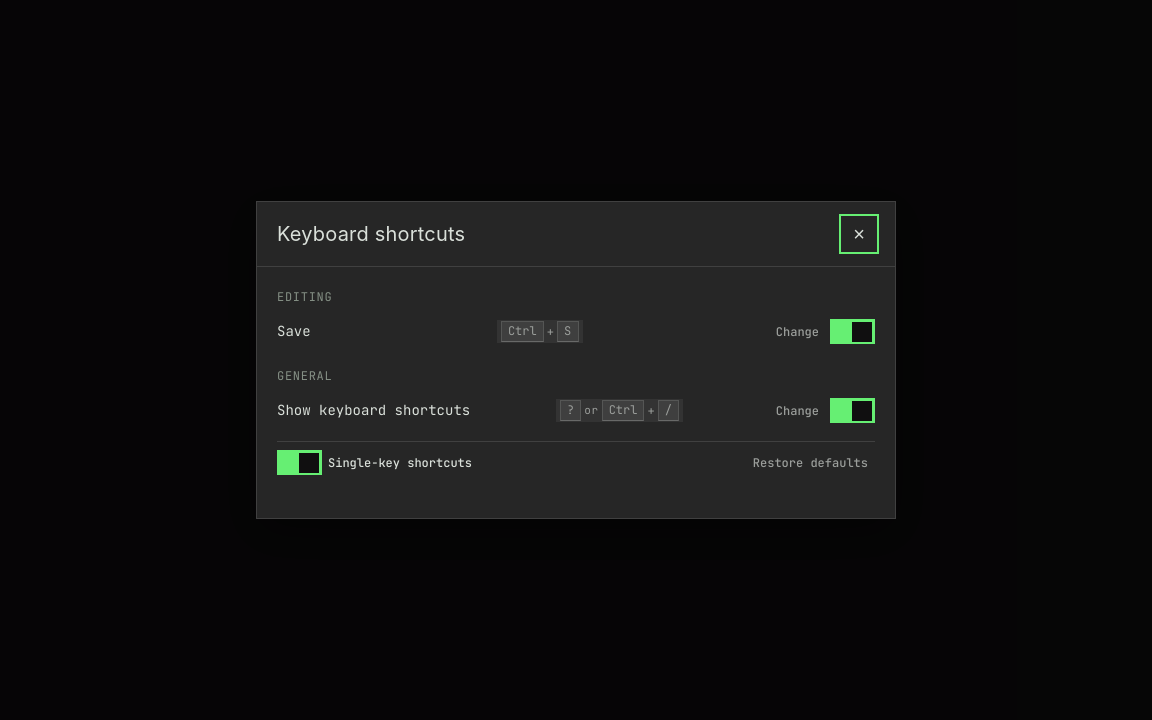
Test: ShortcutsHelp — editable mode (DS-0141) › unparseable keys (space) are rejected with feedback
Click the button "Change" in the row of "Save" at (797,332), box [769, 320, 826, 344]
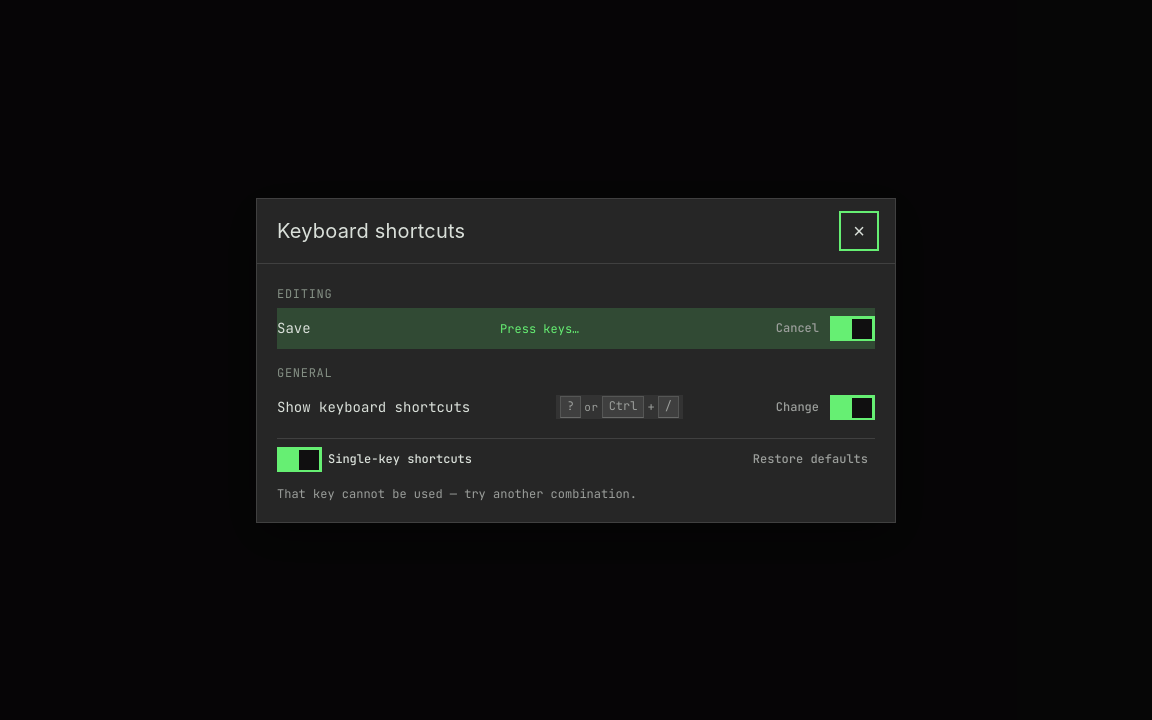
Expected: the message with class "status" shows "cannot be used", [277, 486, 637, 502]
